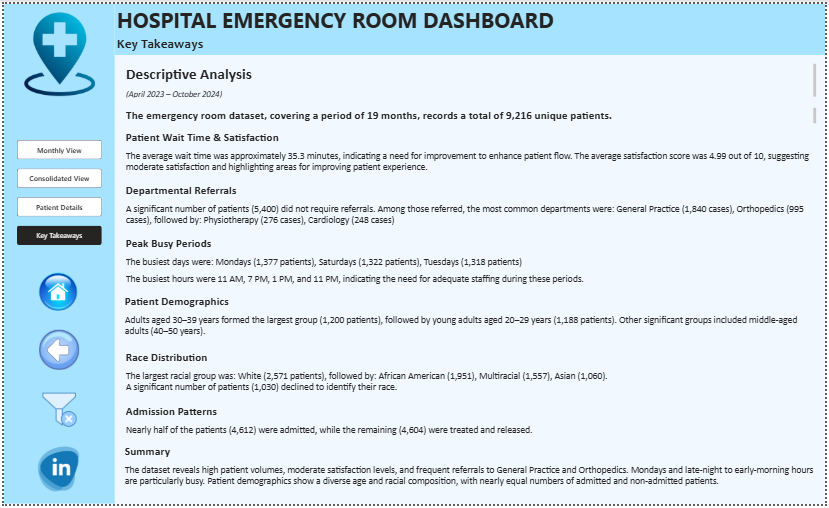

Layout of this report page (visuals, bound fields, positions):
{"tool":"powerbi","page":{"name":"Key Takeaways","canvas":[2300,1400],"ordinal":3},"visuals":[{"type":"shape","box":[0,0,310,1398.7],"z":0},{"type":"shape","box":[310.8,0,1988,142.8],"z":1000},{"type":"textbox","box":[310.8,0,1246,106.4],"z":2000},{"type":"textbox","box":[310.8,81.1,264.9,62.2],"z":3000},{"type":"image","box":[32.5,15,245,252.5],"z":4000},{"type":"actionButton","box":[89.2,735.1,129.7,124.3],"z":5000},{"type":"image","box":[78.4,735.1,148.6,137.8],"z":6000},{"type":"pageNavigator","box":[35.1,381.1,237.8,294.6],"z":7000},{"type":"image","box":[91.9,908.1,124.3,121.6],"z":8000},{"type":"image","box":[91.9,1081.1,124.3,108.1],"z":9000},{"type":"image","box":[67.6,1227,170.3,151.4],"z":10000},{"type":"textbox","box":[335.1,162.2,1943.2,105.4],"z":11000},{"type":"textbox","box":[335.1,286.5,1943.2,59.5],"z":12000},{"type":"textbox","box":[335.1,345.9,1943.2,148.6],"z":13000},{"type":"textbox","box":[335.1,494.6,1943.2,148.6],"z":14000},{"type":"textbox","box":[335.1,643.2,1943.2,154.1],"z":15000},{"type":"textbox","box":[332.4,805.4,1943.2,148.6],"z":16000},{"type":"textbox","box":[335.1,962.2,1943.2,151.4],"z":17000},{"type":"textbox","box":[335.1,1113.5,1943.2,113.5],"z":18000},{"type":"textbox","box":[332.4,1227,1943.2,129.7],"z":19000}]}

Visuals, with their boxes on the page's 2300x1400 design canvas (x1, y1, x2, y2). These are canvas units, not pixel positions in the 829x508 screenshot, which may show the page scaled, cropped or inside an application window:
shape: 0 0 310 1399
shape: 311 0 2299 143
textbox: 311 0 1557 106
textbox: 311 81 576 143
image: 32 15 278 268
actionButton: 89 735 219 859
image: 78 735 227 873
pageNavigator: 35 381 273 676
image: 92 908 216 1030
image: 92 1081 216 1189
image: 68 1227 238 1378
textbox: 335 162 2278 268
textbox: 335 286 2278 346
textbox: 335 346 2278 494
textbox: 335 495 2278 643
textbox: 335 643 2278 797
textbox: 332 805 2276 954
textbox: 335 962 2278 1114
textbox: 335 1114 2278 1227
textbox: 332 1227 2276 1357
